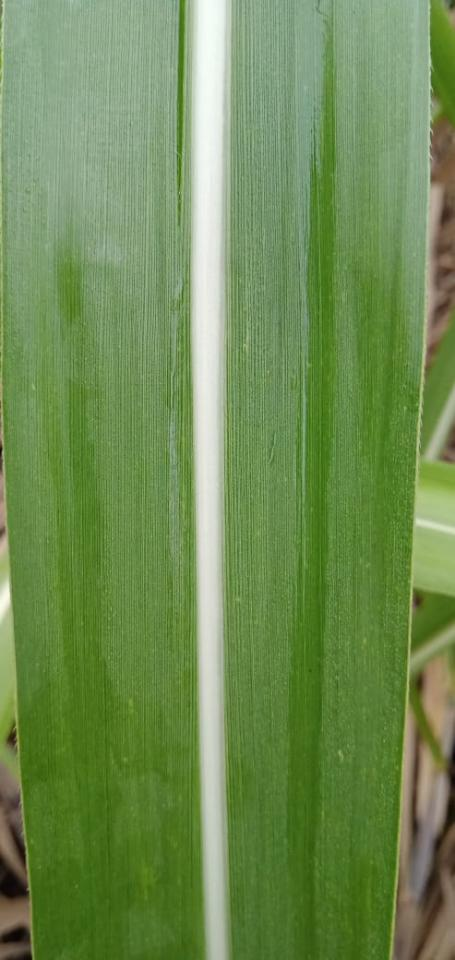Healthy: (2, 0, 428, 959), (415, 462, 454, 596)
